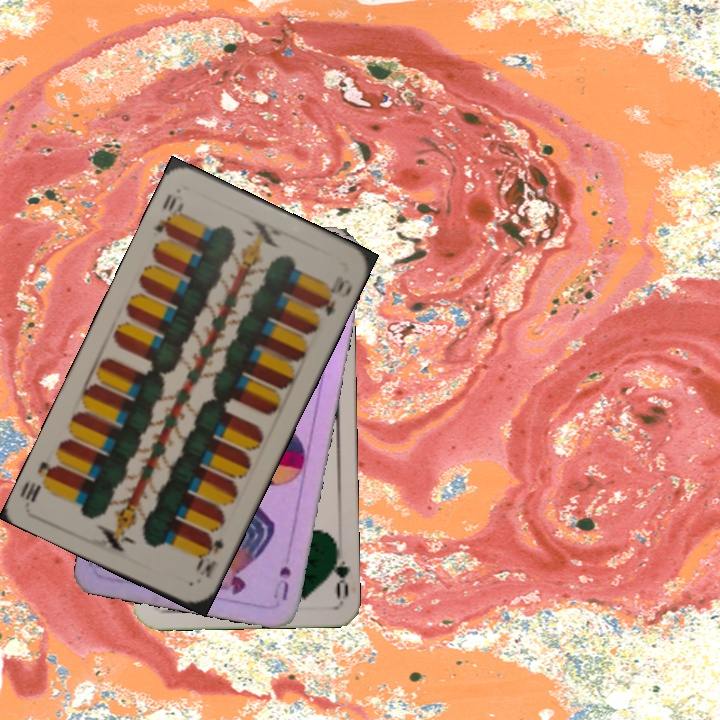E10: (191, 526, 227, 581), (148, 189, 187, 239)
GO: (324, 542, 351, 601)
SU: (269, 562, 294, 603)
